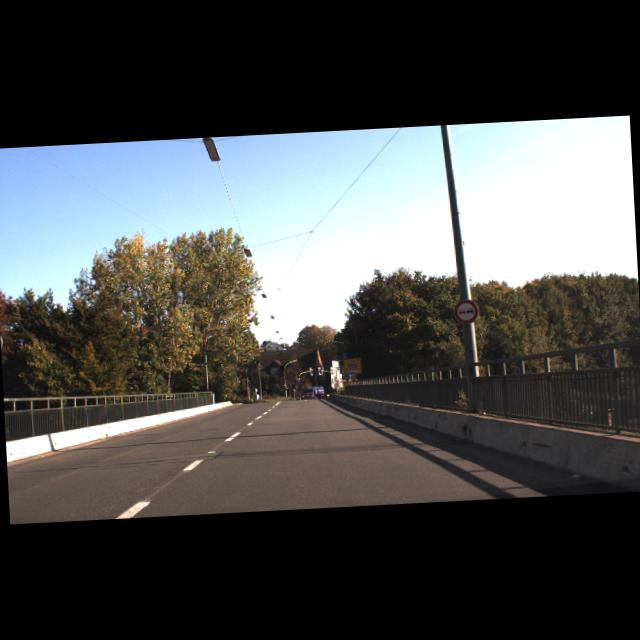prohibitory: (454, 298, 479, 324)
